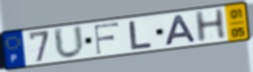7: (28, 29, 52, 64)
A: (163, 13, 199, 47)
F: (93, 21, 121, 56)
H: (192, 8, 228, 45)
L: (127, 20, 154, 51)
U: (51, 24, 87, 60)
